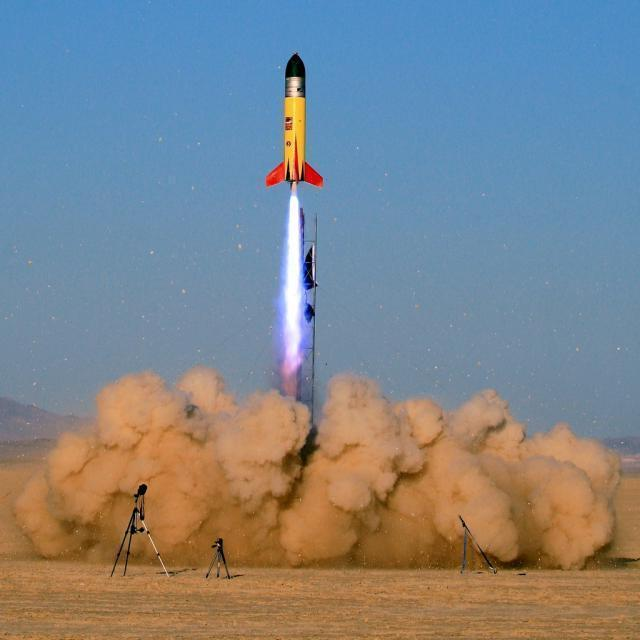missile: (263, 49, 326, 204)
